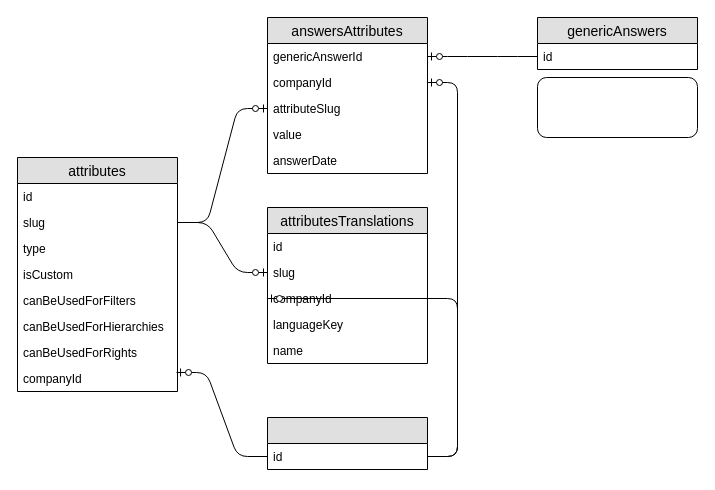
This 715x490 diagram has some shape labels left out. Each missing label, with the box of its shape:
campanies: (266, 416, 428, 470)
genericAnswers is use by answer relation, see answer section: (536, 76, 698, 138)
